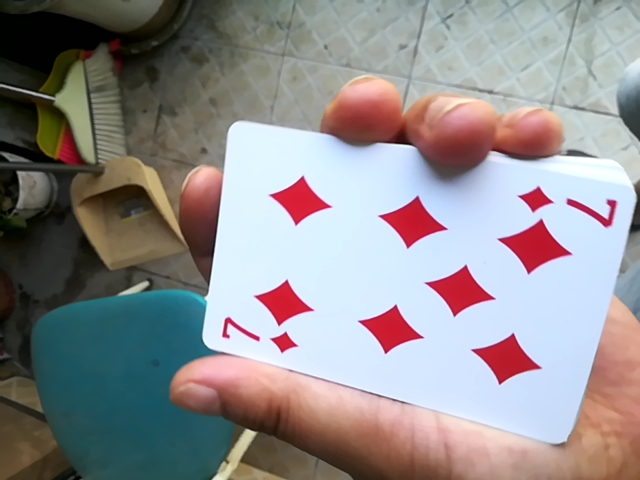fk 7: (185, 120, 638, 454)
